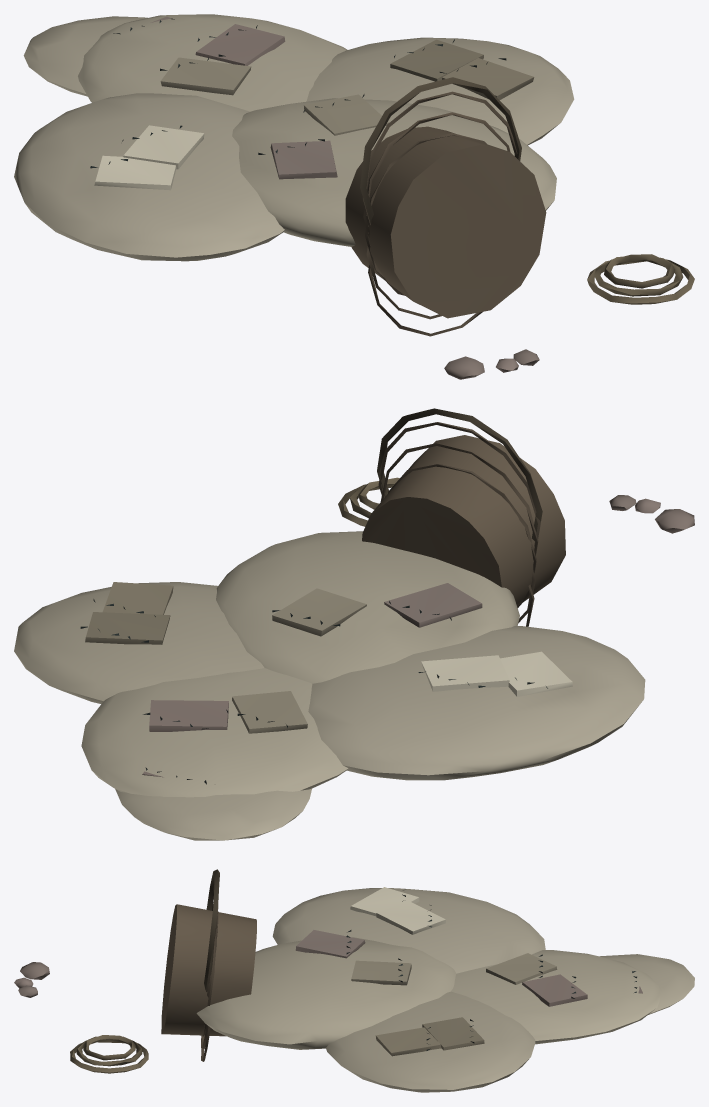
The model's file is balloon_basket_wreck_b_lod2.glb.
3 views of the same model, one above another, from view 1: azimuth 30°, elevation 25°; view 2: azimuth 150°, elevation 25°; view 3: azimuth 270°, elevation 25° (orthographic). The views are drawn at different scales.
Parts seen in each view (by area): view 1: Surface.001; view 2: Surface.001; view 3: Surface.001.
Boxes of the visible parts, x1,y1,x2,y2 form: Surface.001: [14, 14, 694, 379]; Surface.001: [14, 408, 694, 840]; Surface.001: [14, 869, 694, 1092].
Size of the model in its own units: 7.44 by 3.18 by 10.88.
